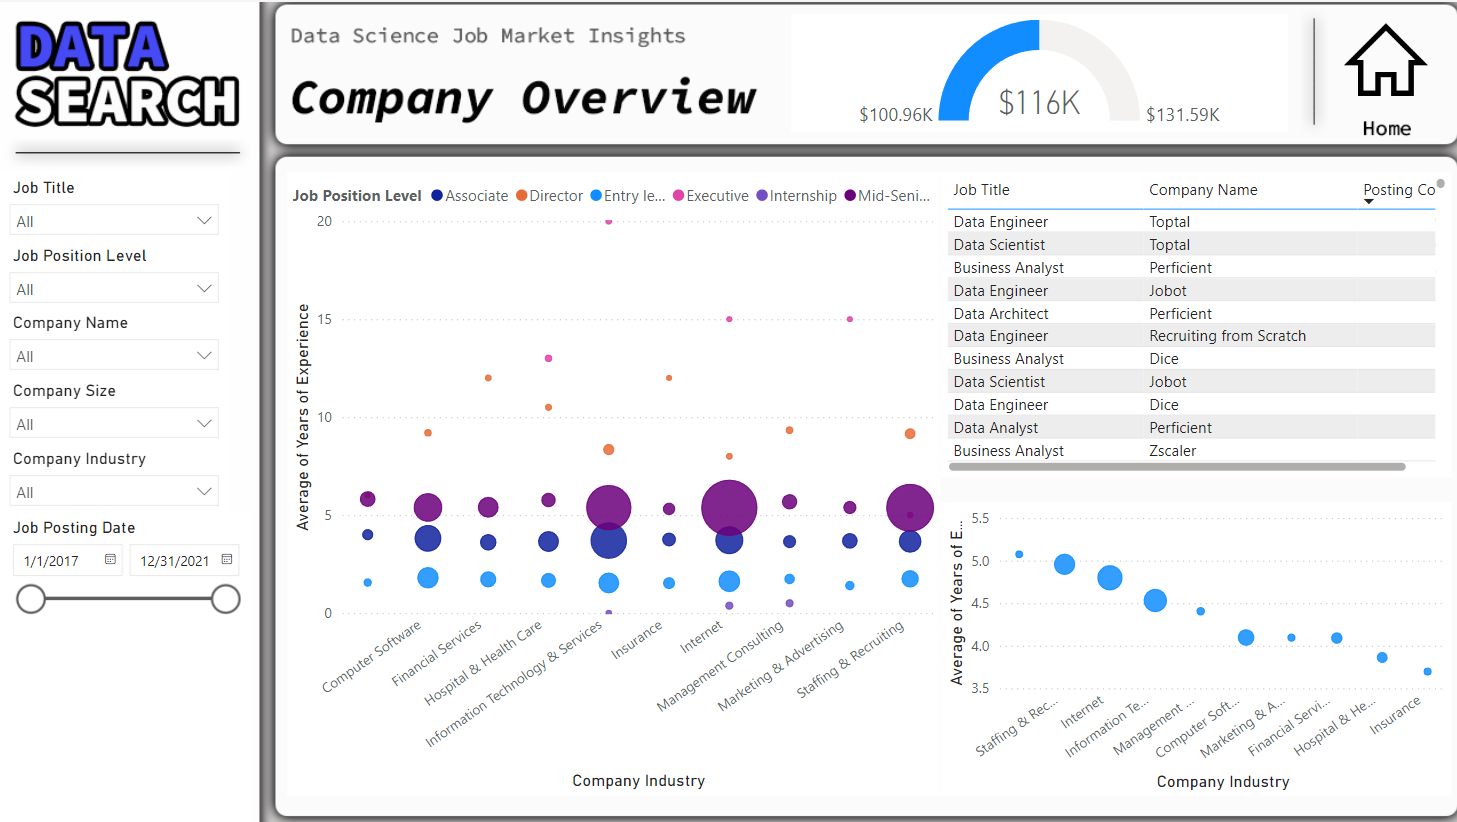

Layout of this report page (visuals, bound fields, positions):
{"tool":"powerbi","page":{"name":"Company","canvas":[1280,720],"ordinal":3},"visuals":[{"type":"slicer","fields":{"Values":["Job Postings.Job Title"]},"box":[0,148.4,203.1,59.6],"z":0},{"type":"slicer","fields":{"Values":["Job Postings.Job Posting Date"]},"box":[0,445.2,219.7,274.4],"z":1000},{"type":"slicer","fields":{"Values":["Job Postings.Job Position Level"]},"box":[0,208,203.1,59.6],"z":2000},{"type":"slicer","fields":{"Values":["Job Postings.Company Industry"]},"box":[0,385.7,203.1,59.6],"z":3000},{"type":"slicer","fields":{"Values":["Job Postings.Company Size"]},"box":[0,326.1,203.1,59.6],"z":4000},{"type":"slicer","fields":{"Values":["Job Postings.Company Name"]},"box":[0,266.5,203.1,59.6],"z":5000},{"type":"scatterChart","fields":{"X":["Job Postings.Company Industry"],"Y":["Avg(Job Postings.Years of Experience)"],"Series":["Job Postings.Job Position Level"],"Size":["_Measures.Posting Count"]},"box":[252.9,148.8,570.9,544.7],"z":5001},{"type":"tableEx","fields":{"Values":["Job Postings.Job Title","Job Postings.Company Name","_Measures.Posting Count"]},"box":[823.8,148.8,446.4,266.5],"z":5002},{"type":"scatterChart","fields":{"Y":["Avg(Job Postings.Years of Experience)"],"X":["Job Postings.Company Industry"],"Size":["_Measures.Posting Count"]},"box":[823.8,436.7,446.4,256.8],"z":5003},{"type":"gauge","fields":{"Y":["Avg(Job Postings.Average Pay)"],"MinValue":["Avg(Job Postings.Minimum Pay)"],"MaxValue":["Avg(Job Postings.Maximum Pay)"]},"box":[692.5,10.7,433.8,103.1],"z":5004},{"type":"image","box":[1158,8.8,110.3,84],"z":5005}]}

Visuals, with their boxes on the page's 1280x720 design canvas (x1, y1, x2, y2). These are canvas units, not pixel positions in the 1457x822 screenshot, which may show the page scaled, cropped or inside an application window:
slicer - Job Postings.Job Title: <bbox>0, 148, 203, 208</bbox>
slicer - Job Postings.Job Posting Date: <bbox>0, 445, 220, 720</bbox>
slicer - Job Postings.Job Position Level: <bbox>0, 208, 203, 268</bbox>
slicer - Job Postings.Company Industry: <bbox>0, 386, 203, 445</bbox>
slicer - Job Postings.Company Size: <bbox>0, 326, 203, 386</bbox>
slicer - Job Postings.Company Name: <bbox>0, 266, 203, 326</bbox>
scatterChart - Job Postings.Company Industry x Avg(Job Postings.Years of Experience): <bbox>253, 149, 824, 694</bbox>
tableEx - Job Postings.Job Title x Job Postings.Company Name: <bbox>824, 149, 1270, 415</bbox>
scatterChart - Avg(Job Postings.Years of Experience) x Job Postings.Company Industry: <bbox>824, 437, 1270, 694</bbox>
gauge - Avg(Job Postings.Average Pay) x Avg(Job Postings.Minimum Pay): <bbox>692, 11, 1126, 114</bbox>
image: <bbox>1158, 9, 1268, 93</bbox>
